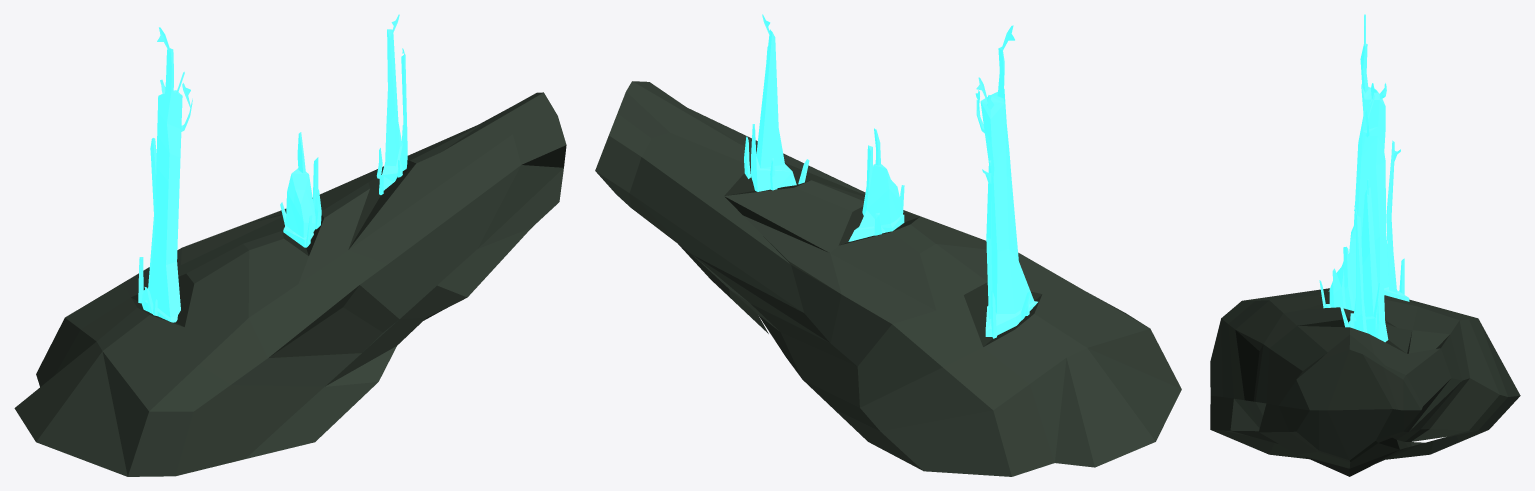
The model's file is SM_Relief_Element_01.glb.
3 renders of one model, left to right at view 1: azimuth 30°, elevation 25°; view 2: azimuth 150°, elevation 25°; view 3: azimuth 270°, elevation 25°, orthographic. The views are drawn at different scales.
Visible parts, largest first — view 1: SM_Relief_Element_01; view 2: SM_Relief_Element_01; view 3: SM_Relief_Element_01.
Boxes of the visible parts, x1=… form: SM_Relief_Element_01: x1=14, y1=14, x2=566, y2=476; SM_Relief_Element_01: x1=595, y1=14, x2=1181, y2=476; SM_Relief_Element_01: x1=1210, y1=14, x2=1520, y2=476.
Size of the model in its own units: 3.64 by 2.59 by 1.93.
2 materials, 1 textured.
